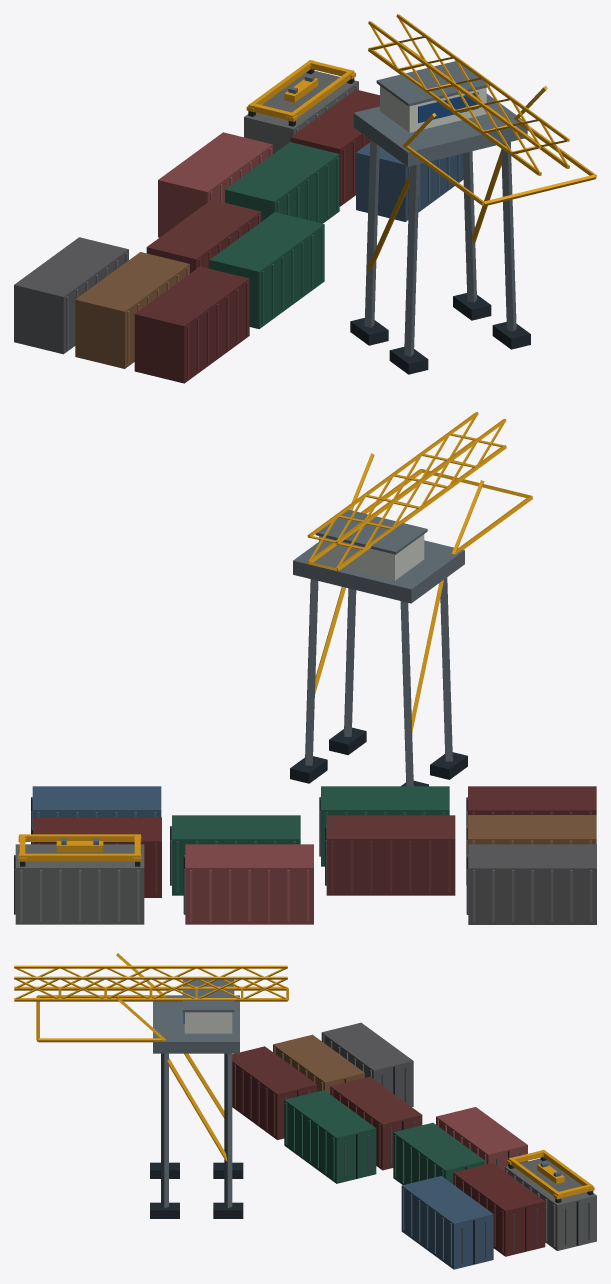
Rendered from SeaportSystem-02-ShipToShoreGantryCrane-01-20Footer-2-06.glb.
3 renders of one model, top to bottom at view 1: azimuth 30°, elevation 25°; view 2: azimuth 150°, elevation 25°; view 3: azimuth 270°, elevation 25°, orthographic. The views are drawn at different scales.
Visible parts, largest first — view 1: SeaportSystem-02-ShipToShoreGantryCrane-01-20Footer-2-06; view 2: SeaportSystem-02-ShipToShoreGantryCrane-01-20Footer-2-06; view 3: SeaportSystem-02-ShipToShoreGantryCrane-01-20Footer-2-06.
Part boxes in pixels (left/top/right/bottom): SeaportSystem-02-ShipToShoreGantryCrane-01-20Footer-2-06: left=14, top=14, right=596, bottom=383; SeaportSystem-02-ShipToShoreGantryCrane-01-20Footer-2-06: left=14, top=412, right=596, bottom=924; SeaportSystem-02-ShipToShoreGantryCrane-01-20Footer-2-06: left=14, top=953, right=596, bottom=1269.
Bounding box in the file's own units: 60.11 × 31.18 × 73.62.
